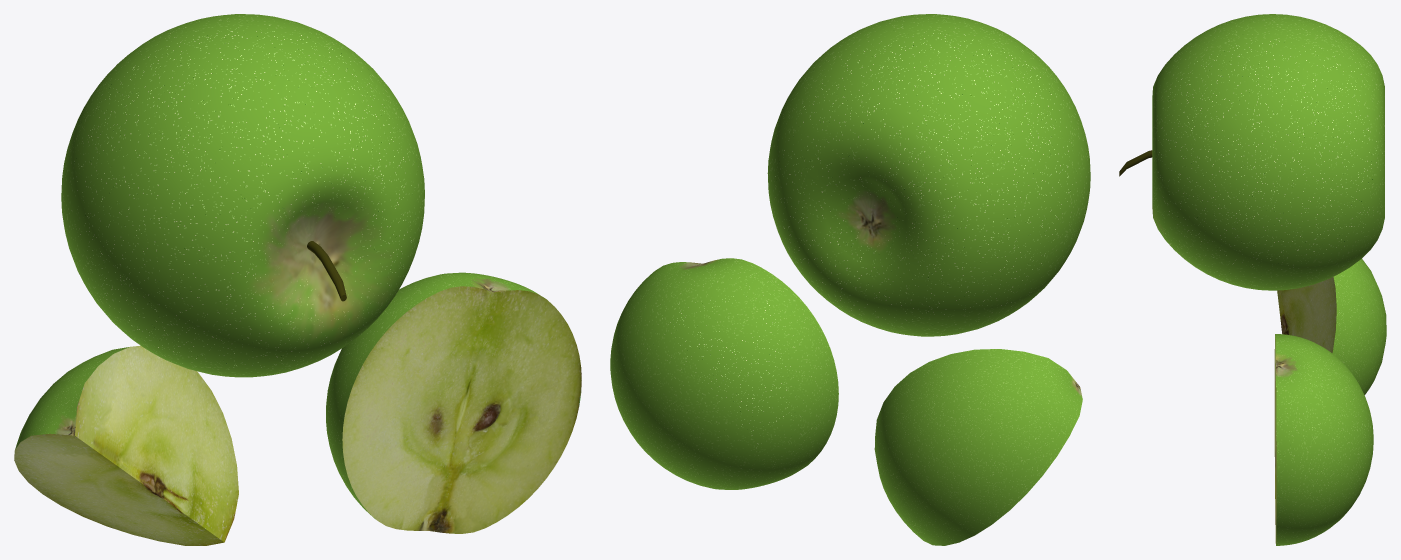
The model's file is Apple.fbx.
3 views of the same model, side by side, from view 1: azimuth 30°, elevation 25°; view 2: azimuth 150°, elevation 25°; view 3: azimuth 270°, elevation 25° (orthographic). The views are drawn at different scales.
Parts seen in each view (by area): view 1: Apple, AppleHalf, AppleQuarter; view 2: Apple, AppleHalf, AppleQuarter; view 3: Apple, AppleHalf, AppleQuarter.
Part boxes in pixels (left/top/right/bottom): Apple: left=61, top=14, right=424, bottom=377; AppleHalf: left=326, top=272, right=581, bottom=533; AppleQuarter: left=14, top=345, right=238, bottom=545; Apple: left=767, top=14, right=1090, bottom=336; AppleHalf: left=610, top=258, right=838, bottom=489; AppleQuarter: left=874, top=349, right=1082, bottom=545; Apple: left=1152, top=14, right=1384, bottom=290; AppleHalf: left=1274, top=334, right=1373, bottom=545; AppleQuarter: left=1277, top=259, right=1386, bottom=395.
Bounding box in the file's own units: 29.76 × 29.92 × 17.
